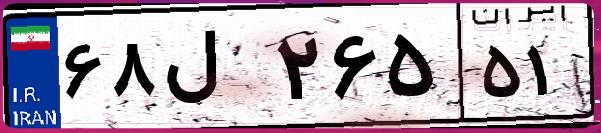1: (525, 38, 570, 115)
2: (270, 28, 330, 110)
5: (385, 28, 445, 110), (475, 38, 525, 113)
6: (330, 28, 385, 110), (57, 26, 110, 100)
8: (110, 28, 158, 98)
ل: (158, 20, 270, 120)
